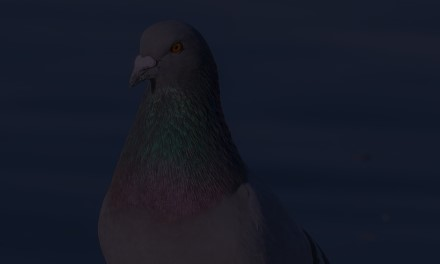pigeon: (95, 16, 273, 256)
